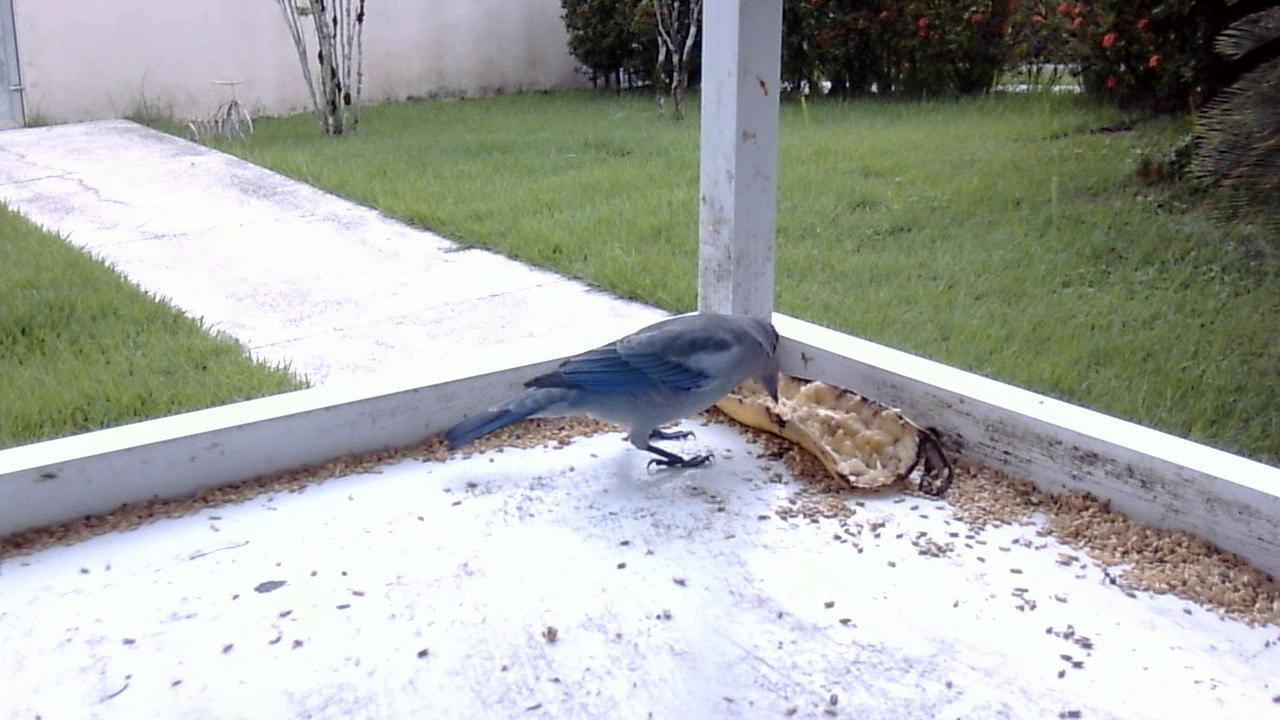sanhaco_da_amazonia: (446, 302, 786, 486)
